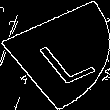L_NW: (19, 26, 91, 84)
